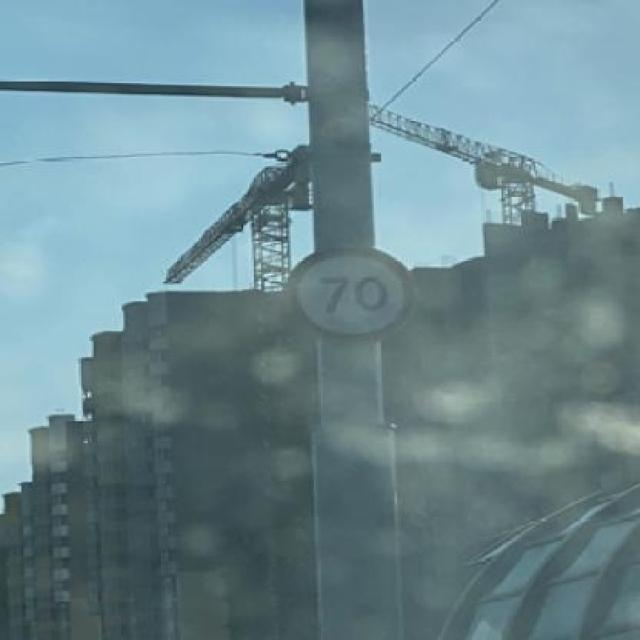forb_speed_over_70: (289, 250, 416, 339)
